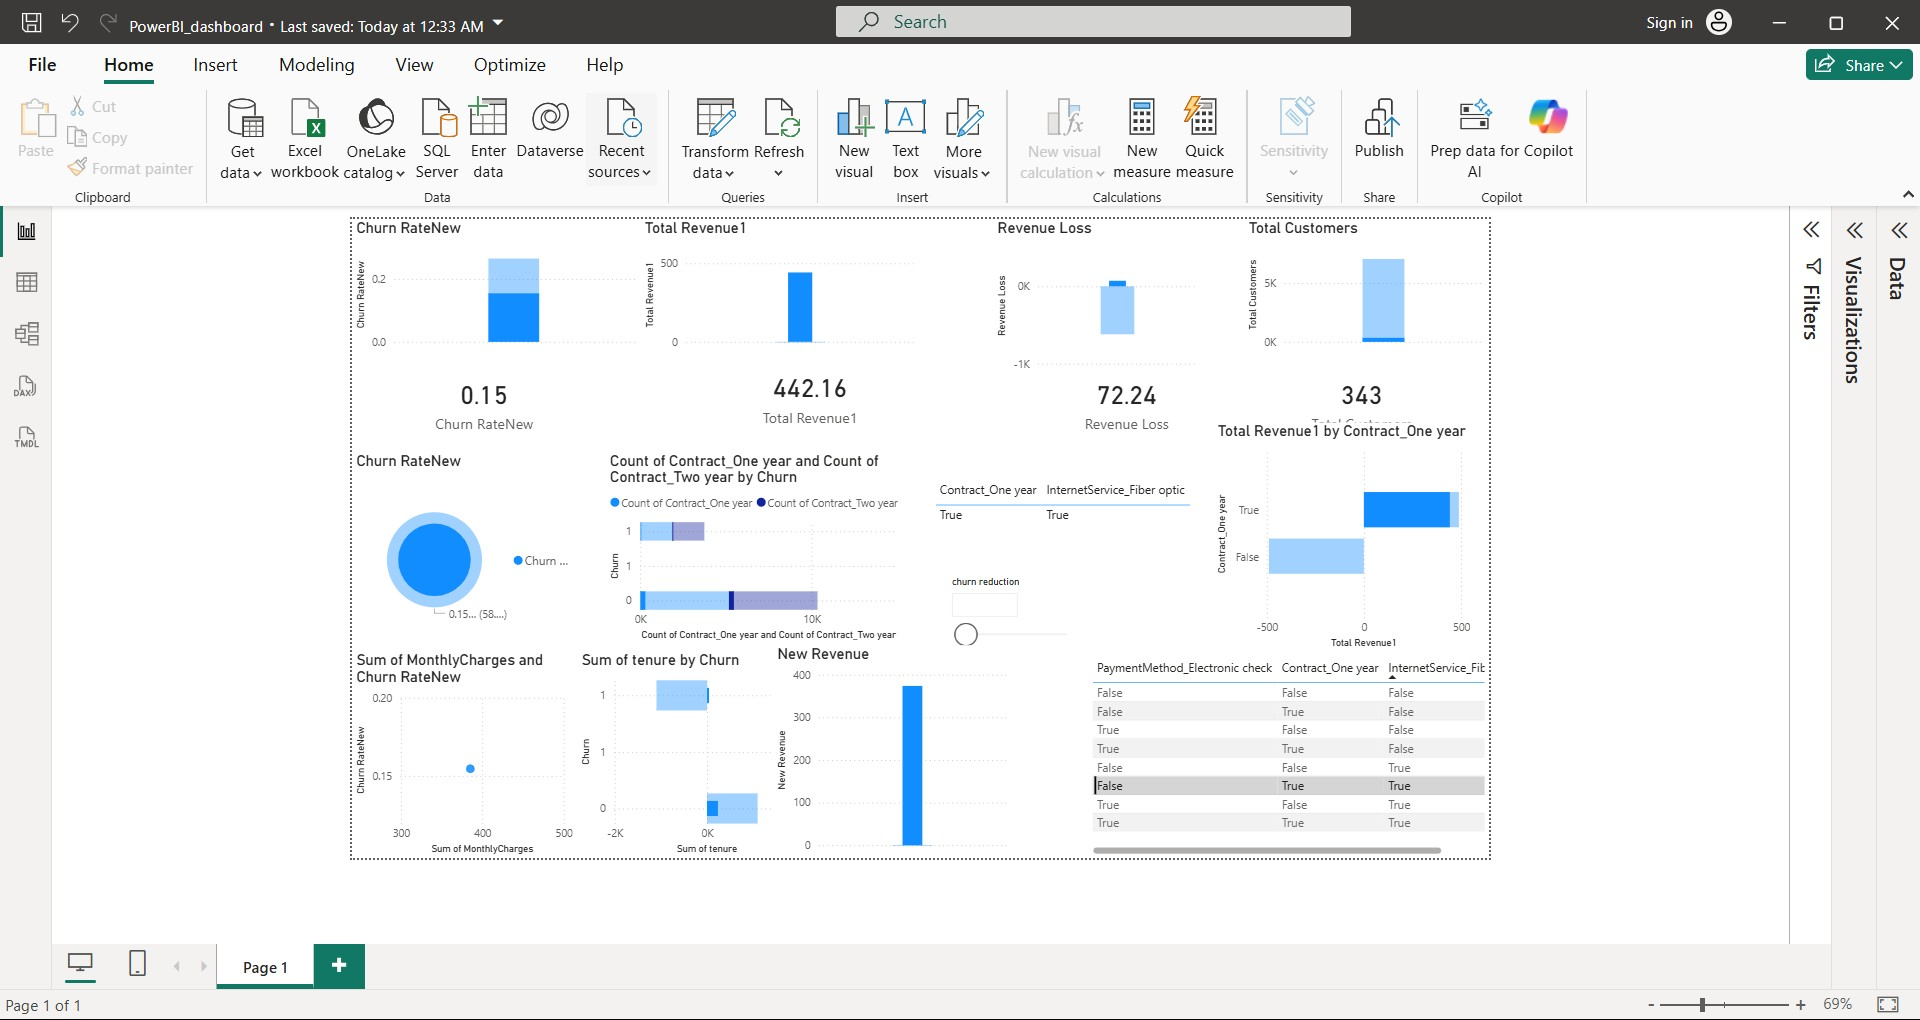

The dashboard page shown, as its layout file describes it:
{"tool":"powerbi","page":{"name":"Page 1","canvas":[1280,720],"ordinal":0},"visuals":[{"type":"clusteredColumnChart","fields":{"Y":["processed_data.Churn RateNew"]},"box":[0,0,324.6,153.6],"z":0},{"type":"clusteredColumnChart","fields":{"Y":["processed_data.Total Revenue1"]},"box":[324.6,0,315.9,153.6],"z":1000},{"type":"clusteredColumnChart","fields":{"Y":["processed_data.Revenue Loss"]},"box":[721.7,0,236.2,178.3],"z":2000},{"type":"clusteredColumnChart","fields":{"Y":["processed_data.Total Customers"]},"box":[1004.3,0,275.4,153.6],"z":3000},{"type":"card","fields":{"Values":["processed_data.Churn RateNew"]},"box":[26.1,168.1,246.4,76.8],"z":4000},{"type":"card","fields":{"Values":["processed_data.Total Revenue1"]},"box":[391.3,153.6,249.3,91.3],"z":5000},{"type":"card","fields":{"Values":["processed_data.Revenue Loss"]},"box":[721.7,168.1,301.4,76.8],"z":6000},{"type":"card","fields":{"Values":["processed_data.Total Customers"]},"box":[1023.2,168.1,227.5,76.8],"z":7000},{"type":"pieChart","fields":{"Y":["processed_data.Churn RateNew"]},"box":[0,262.3,262.3,224.6],"z":8000},{"type":"barChart","fields":{"Y":["CountNonNull(processed_data.Contract_One year)","CountNonNull(processed_data.Contract_Two year)"],"Category":["processed_data.Churn"]},"box":[285.5,262.3,343.5,217.4],"z":9000},{"type":"barChart","fields":{"Y":["Sum(processed_data.tenure)"],"Category":["processed_data.Churn"]},"box":[253.6,487,262.3,233.3],"z":10000},{"type":"scatterChart","fields":{"X":["Sum(processed_data.MonthlyCharges)"],"Y":["processed_data.Churn RateNew"]},"box":[0,487,253.6,233.3],"z":11000},{"type":"barChart","fields":{"Y":["processed_data.Total Revenue1"],"Category":["processed_data.Contract_One year","processed_data.Contract_Two year"]},"box":[969.6,229,294.2,259.4],"z":12000},{"type":"tableEx","fields":{"Values":["processed_data.Contract_One year","processed_data.InternetService_Fiber optic"]},"box":[650.7,288.4,307.2,71],"z":13000},{"type":"tableEx","fields":{"Values":["processed_data.PaymentMethod_Electronic check","processed_data.Contract_One year","processed_data.InternetService_Fiber optic"]},"box":[827.5,488.4,452.2,231.9],"z":14000},{"type":"slicer","fields":{"Values":["churn reduction 2.churn reduction"]},"box":[662.3,397.1,165.2,143.5],"z":16000},{"type":"clusteredColumnChart","fields":{"Y":["churn reduction.New Revenue"]},"box":[473.9,479.7,269.6,240.6],"z":16001}]}

Visuals, with their boxes on the page's 1280x720 design canvas (x1, y1, x2, y2). These are canvas units, not pixel positions in the 1920x1020 screenshot, which may show the page scaled, cropped or inside an application window:
clusteredColumnChart - processed_data.Churn RateNew: select_region(0, 0, 325, 154)
clusteredColumnChart - processed_data.Total Revenue1: select_region(325, 0, 640, 154)
clusteredColumnChart - processed_data.Revenue Loss: select_region(722, 0, 958, 178)
clusteredColumnChart - processed_data.Total Customers: select_region(1004, 0, 1280, 154)
card - processed_data.Churn RateNew: select_region(26, 168, 272, 245)
card - processed_data.Total Revenue1: select_region(391, 154, 641, 245)
card - processed_data.Revenue Loss: select_region(722, 168, 1023, 245)
card - processed_data.Total Customers: select_region(1023, 168, 1251, 245)
pieChart - processed_data.Churn RateNew: select_region(0, 262, 262, 487)
barChart - CountNonNull(processed_data.Contract_One year) x CountNonNull(processed_data.Contract_Two year): select_region(286, 262, 629, 480)
barChart - Sum(processed_data.tenure) x processed_data.Churn: select_region(254, 487, 516, 720)
scatterChart - Sum(processed_data.MonthlyCharges) x processed_data.Churn RateNew: select_region(0, 487, 254, 720)
barChart - processed_data.Total Revenue1 x processed_data.Contract_One year: select_region(970, 229, 1264, 488)
tableEx - processed_data.Contract_One year x processed_data.InternetService_Fiber optic: select_region(651, 288, 958, 359)
tableEx - processed_data.PaymentMethod_Electronic check x processed_data.Contract_One year: select_region(828, 488, 1280, 720)
slicer - churn reduction 2.churn reduction: select_region(662, 397, 828, 541)
clusteredColumnChart - churn reduction.New Revenue: select_region(474, 480, 744, 720)
